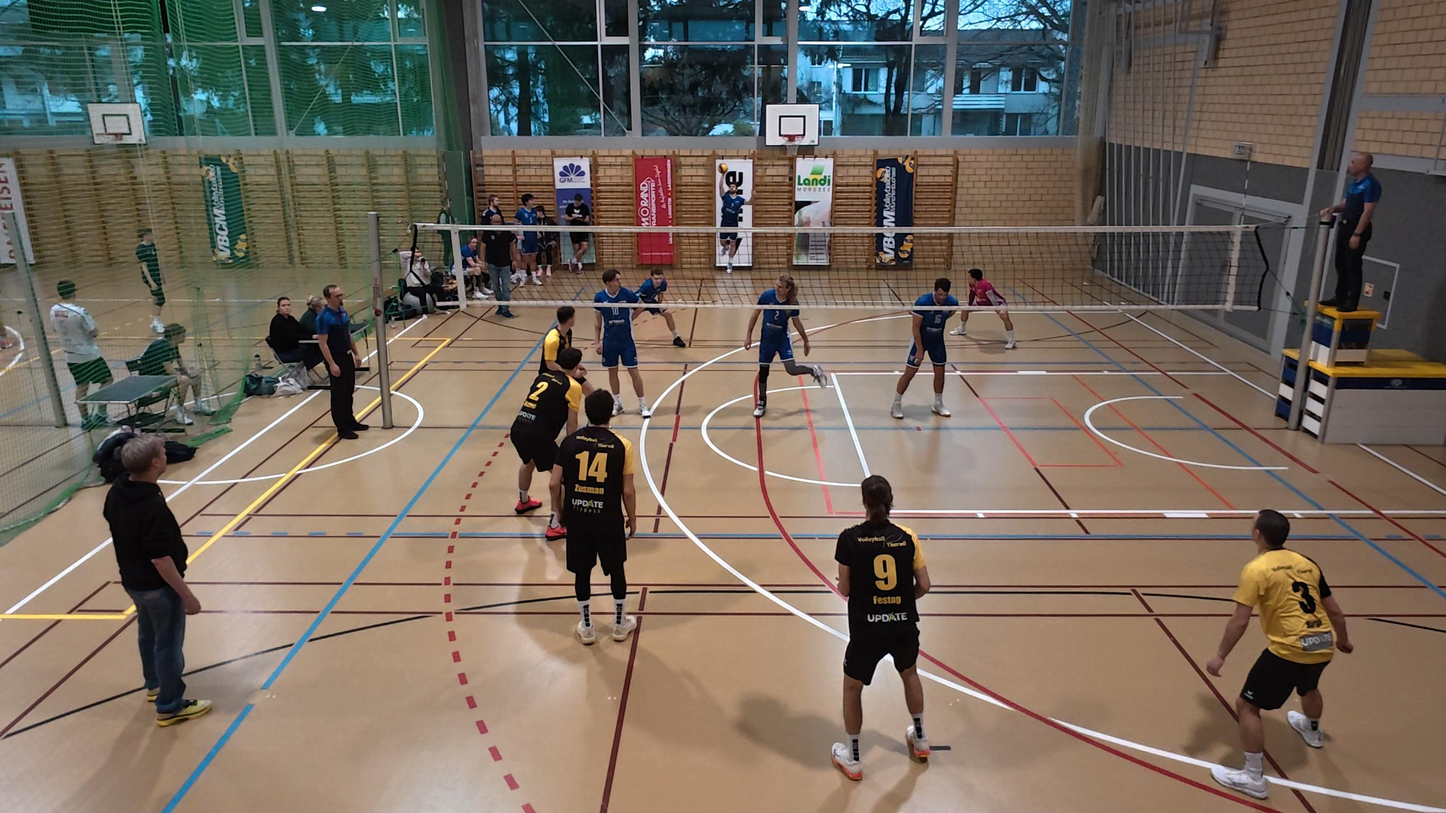battuta: (711, 158, 752, 276)
